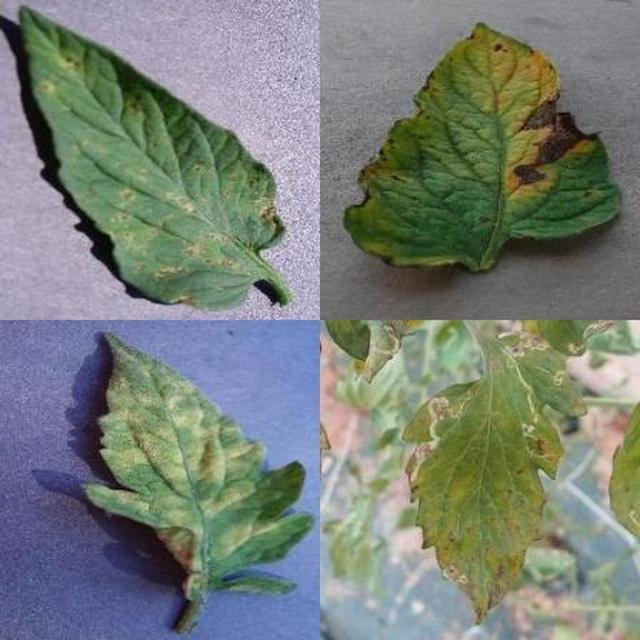Septoria Leaf: (218, 212, 640, 640)
